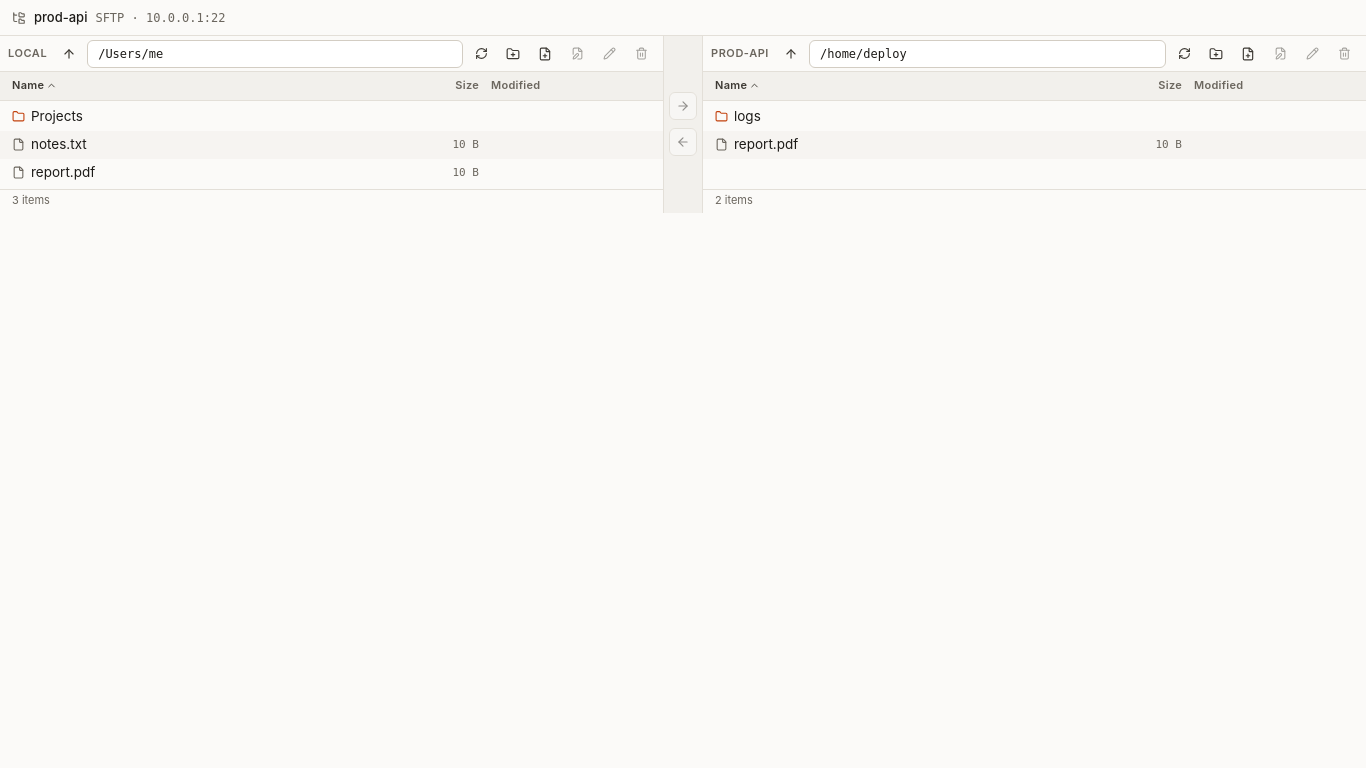
Test: SftpView › creates a folder after validating its name
Expected: the option "logs" is shown, x1=715 y1=108 x2=761 y2=124
Expected: the option "notes.txt 10 B" is shown, x1=0 y1=131 x2=663 y2=159
Step 1. Click the button named "New folder (prod-api)" → (1216, 54), box x1=1202 y1=40 x2=1230 y2=68
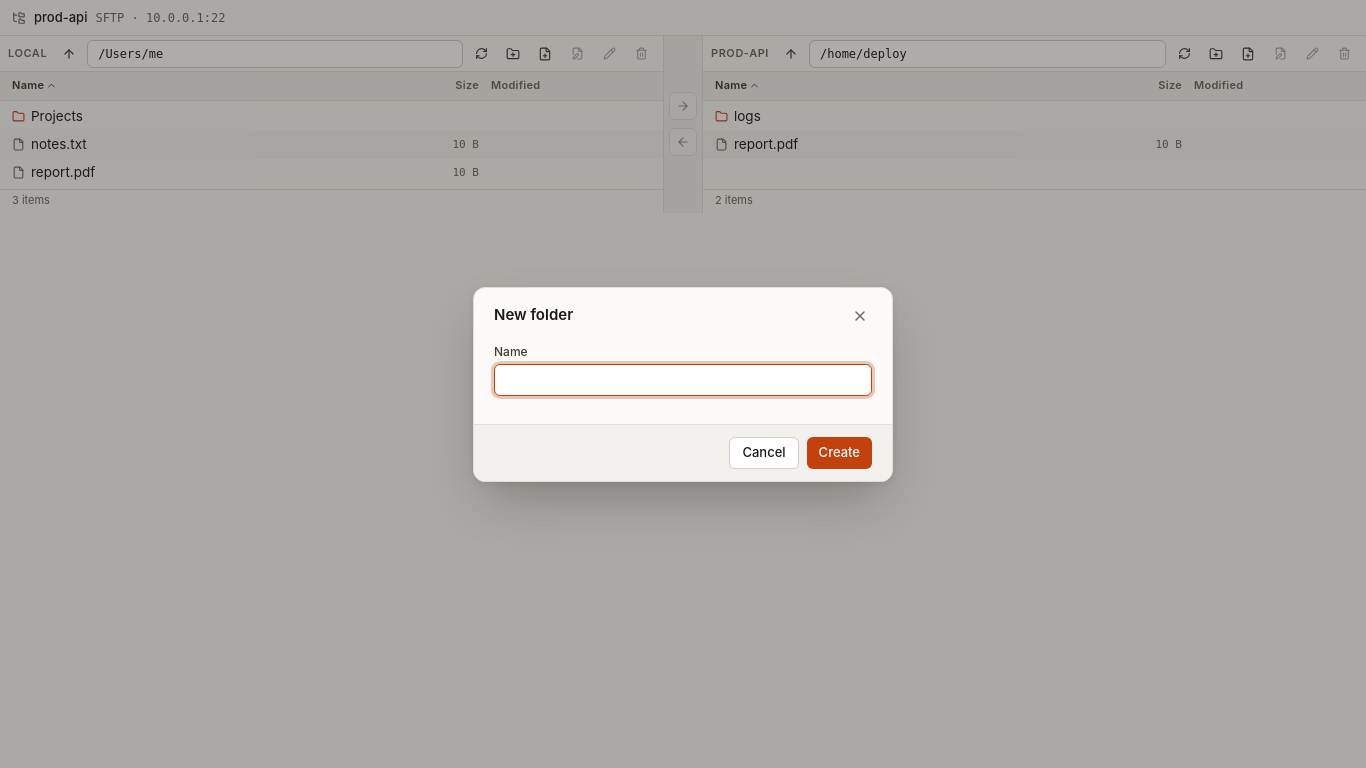
Step 2. Type "a/b" into the field labelled "Name" → (683, 380), box x1=494 y1=364 x2=872 y2=396
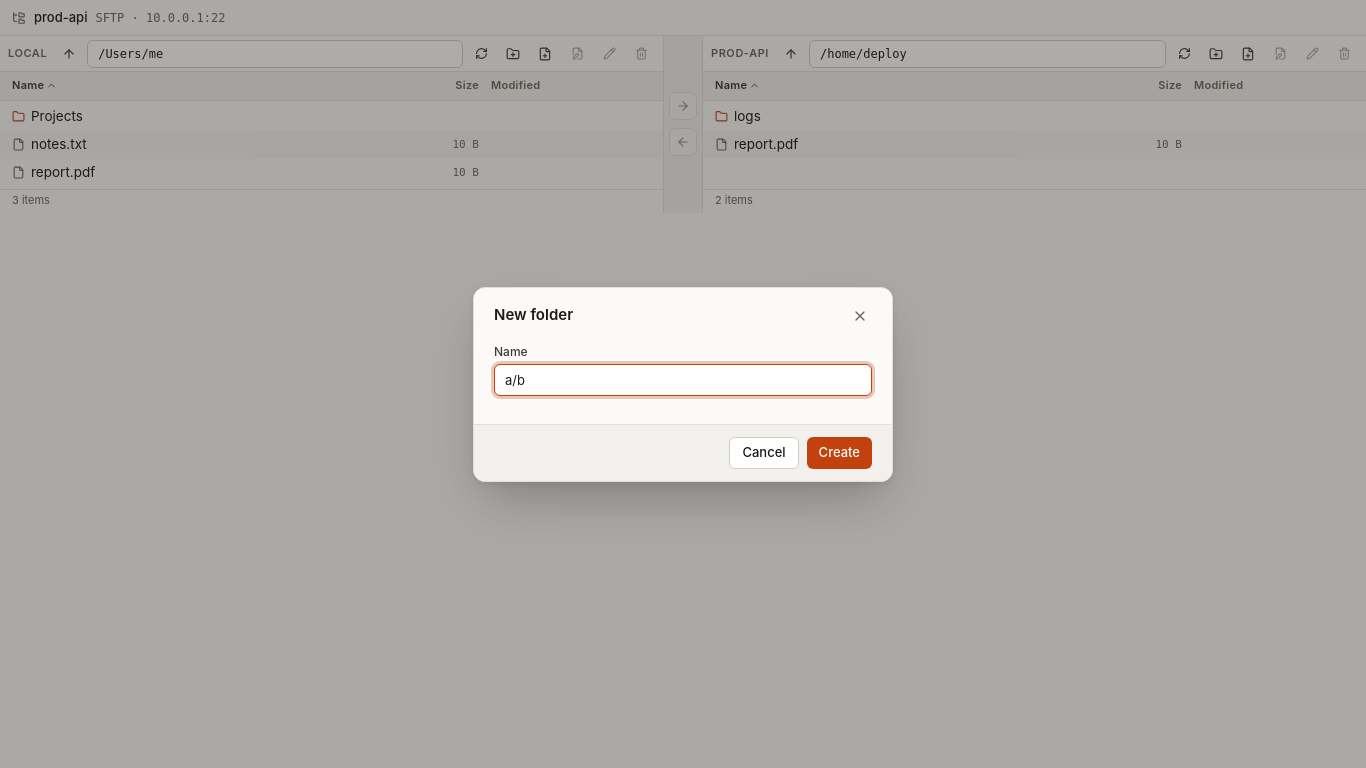
Step 3. Click the button "Create" → (839, 452), box x1=807 y1=436 x2=872 y2=468
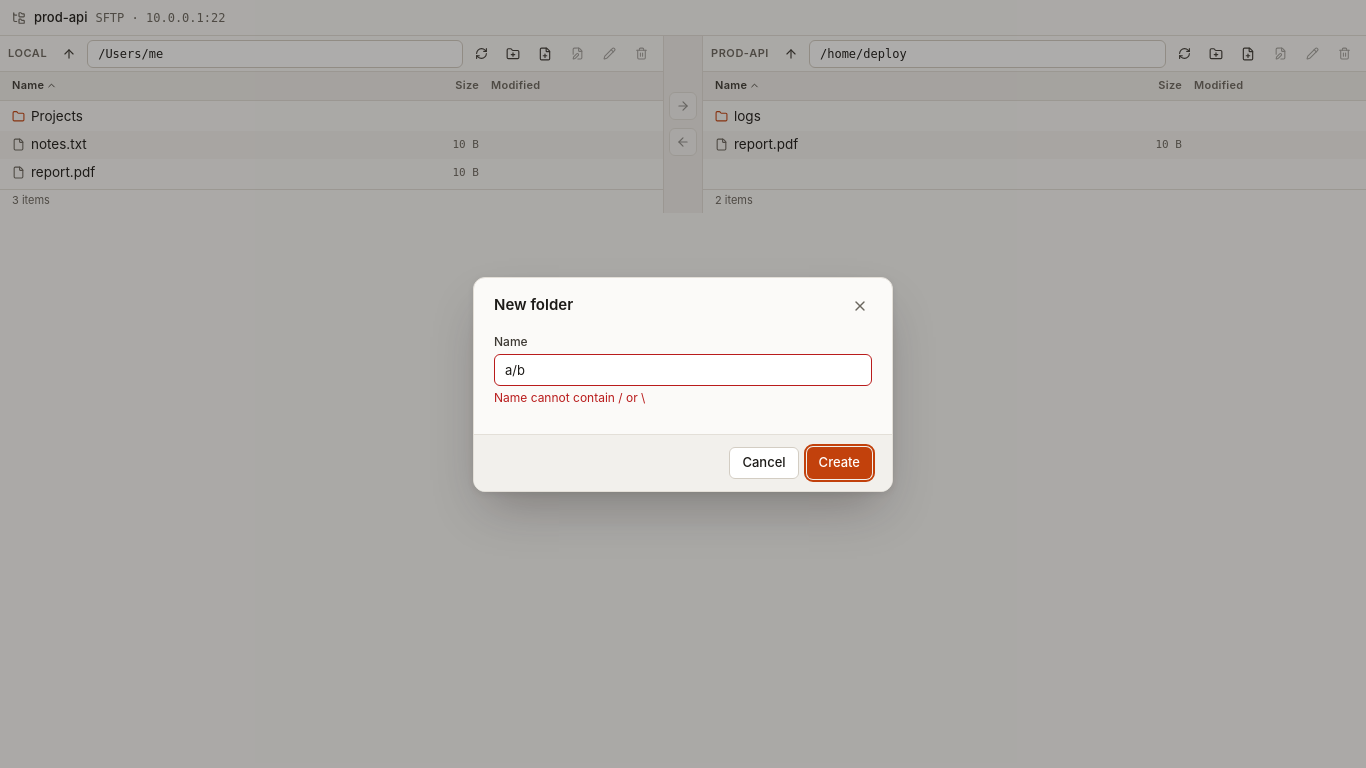
Now the text "Name cannot contain / or \\" is shown, box x1=494 y1=390 x2=645 y2=404
Step 4. Replace the text in the field labelled "Name" with "releases" → (683, 370), box x1=494 y1=354 x2=872 y2=386
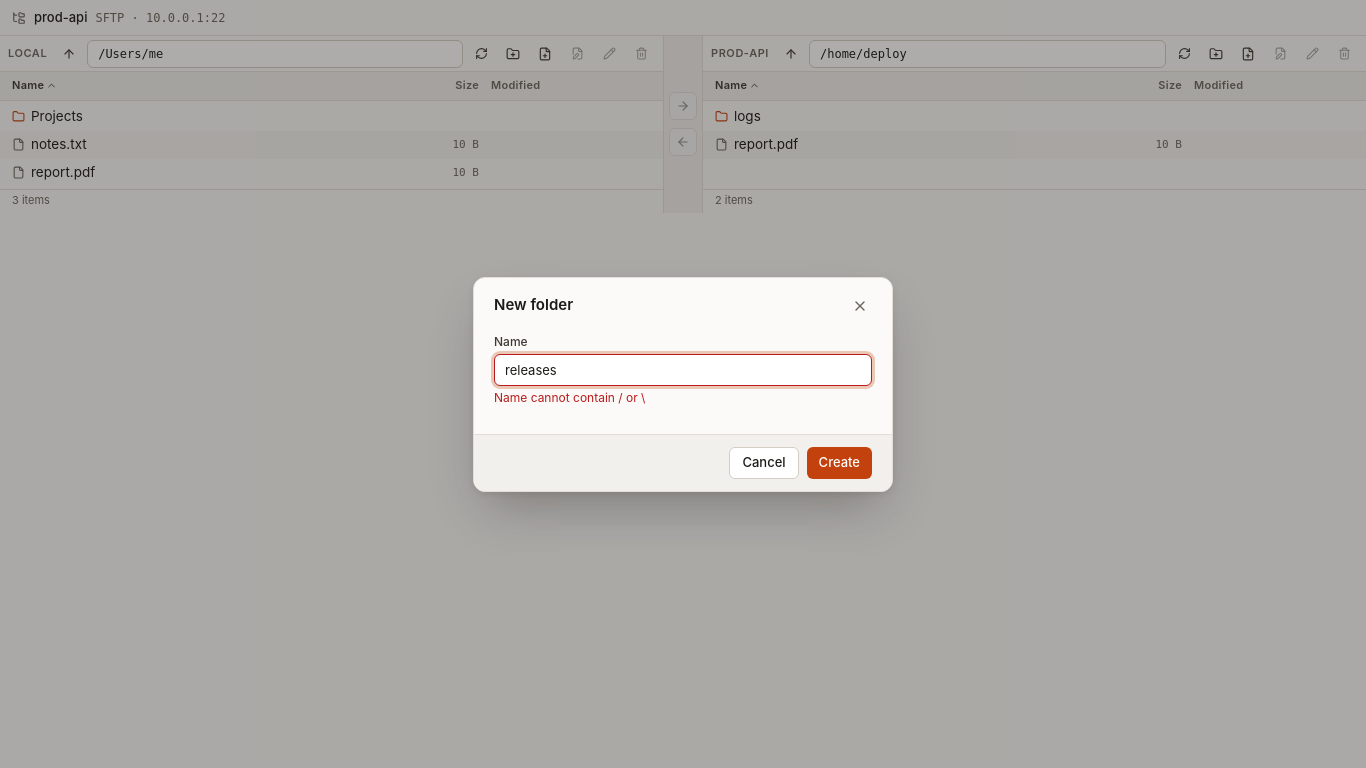
Step 5. Click the button "Create" → (839, 462), box x1=807 y1=446 x2=872 y2=478
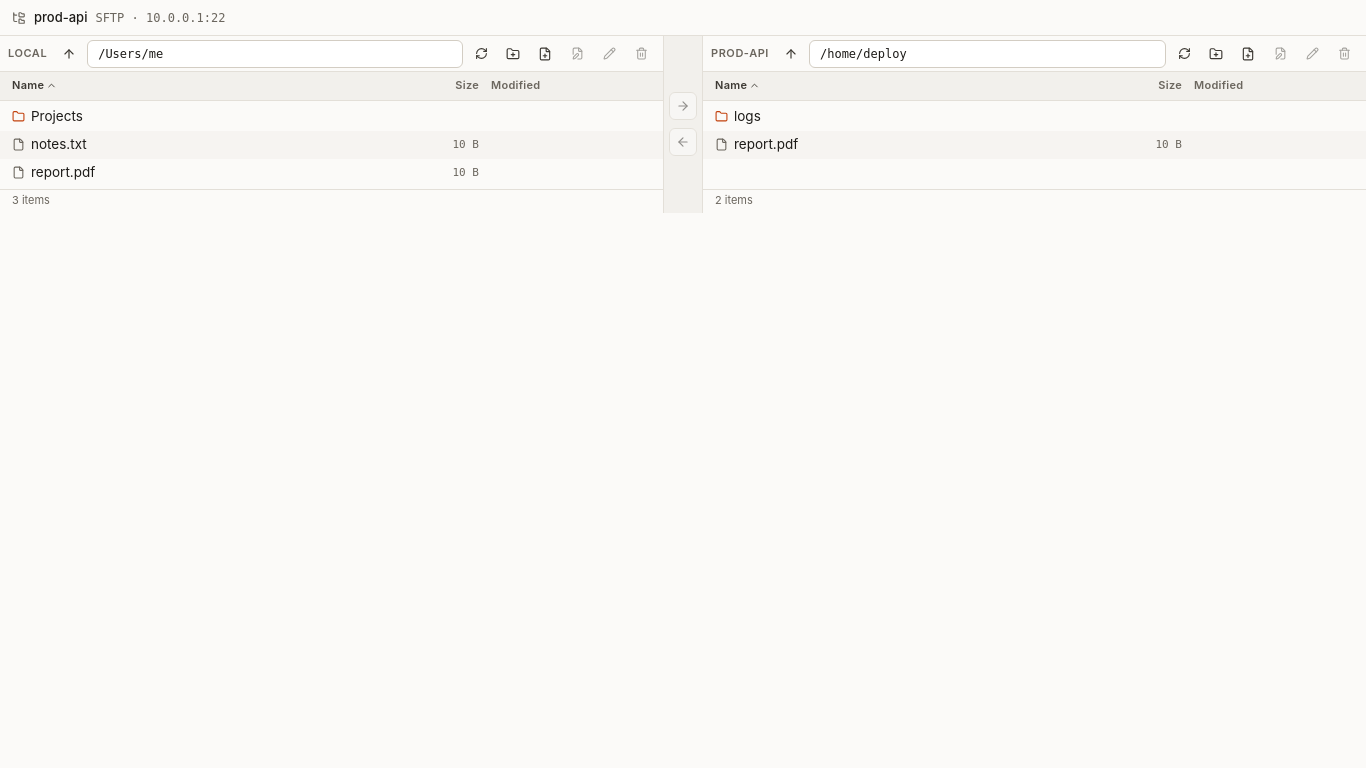
Now the dialog is gone
